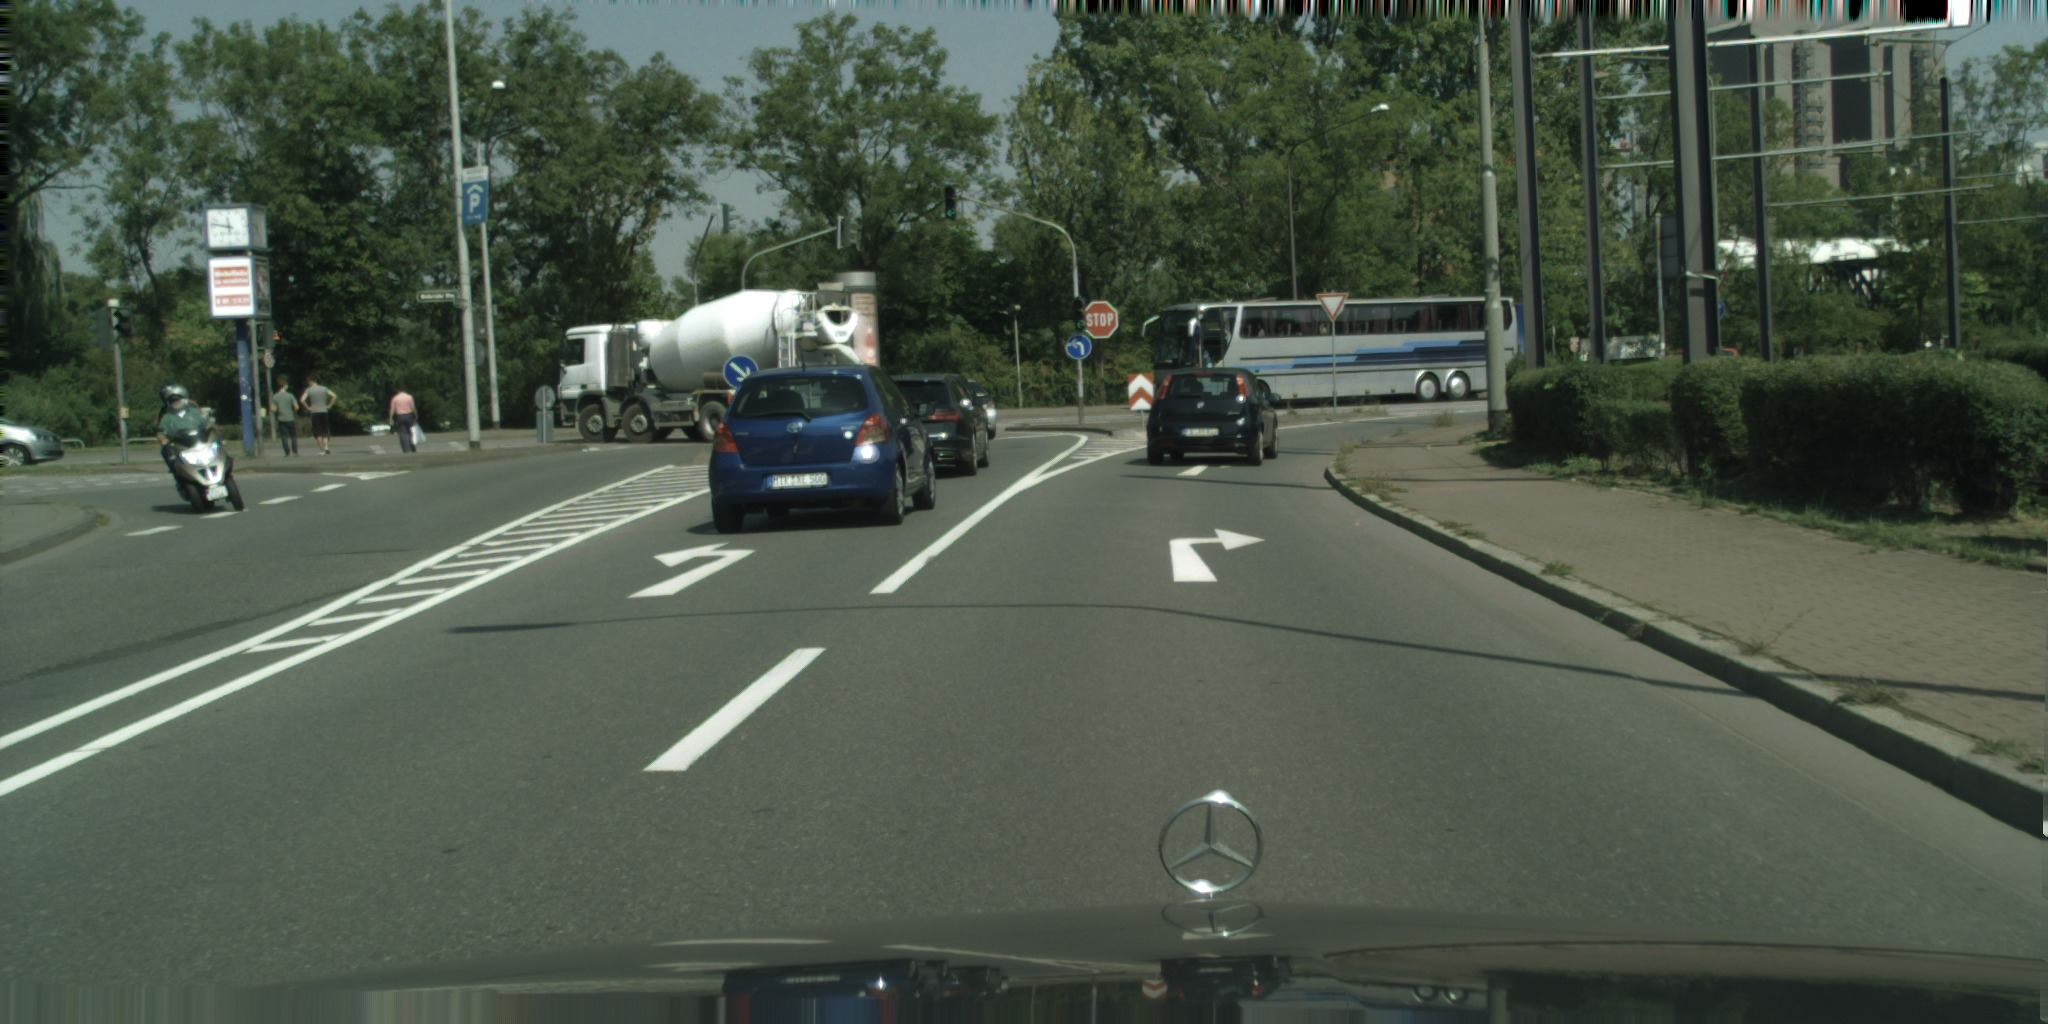bus: (1142, 293, 1520, 406)
car: (707, 349, 938, 534), (1145, 367, 1282, 467), (882, 372, 990, 477), (0, 414, 63, 469), (1664, 347, 1741, 377), (962, 376, 997, 439)
motorcycle: (157, 419, 243, 512)
person: (299, 373, 337, 458), (387, 382, 426, 455), (269, 377, 301, 459)
rider: (158, 385, 213, 503), (153, 384, 205, 444)
truck: (555, 282, 865, 445)
